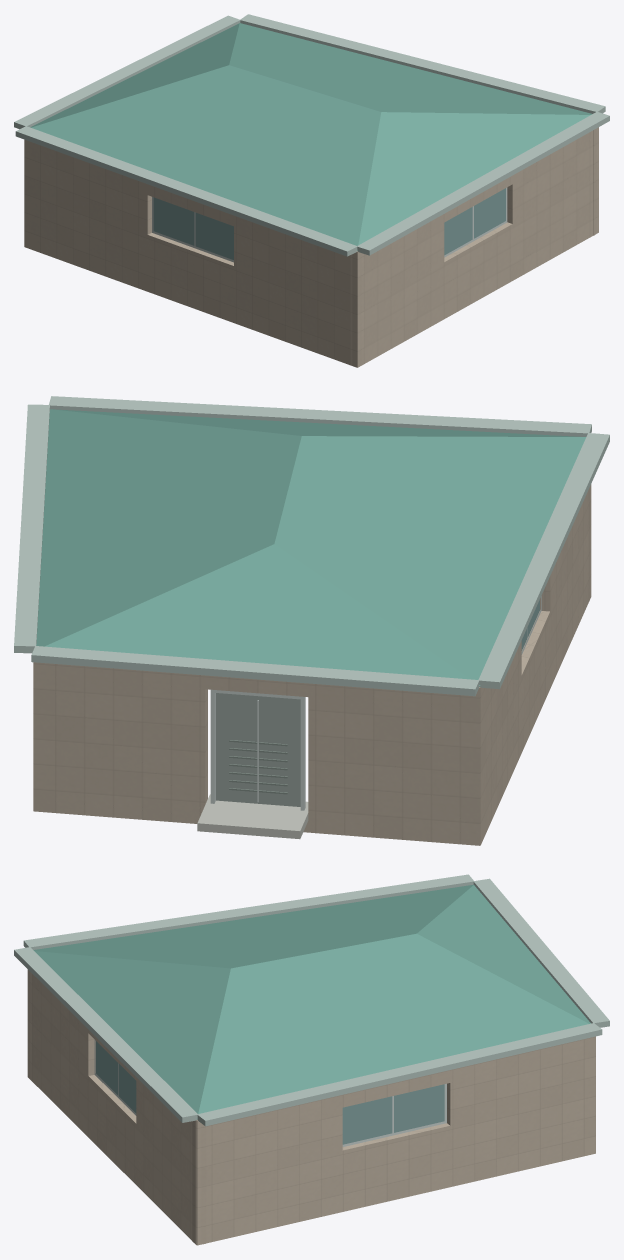
3 renders of one model, top to bottom at view 1: azimuth 30°, elevation 25°; view 2: azimuth 150°, elevation 25°; view 3: azimuth 270°, elevation 25°, orthographic. The views are drawn at different scales.
Parts seen in each view (by area): view 1: southhouse__roof, southhouse__wall, southhouse__rib, southhouse__glass, southhouse__frame; view 2: southhouse__roof, southhouse__wall, southhouse__rib, southhouse__door, southhouse__threshold-entry, southhouse__frame, southhouse__vent; view 3: southhouse__roof, southhouse__wall, southhouse__rib, southhouse__glass, southhouse__frame.
Boxes of the visible parts, x1,y1,x2,y2 form: southhouse__roof: [30, 23, 592, 250]; southhouse__wall: [24, 127, 598, 367]; southhouse__rib: [14, 14, 609, 256]; southhouse__glass: [153, 188, 505, 259]; southhouse__frame: [152, 187, 507, 262]; southhouse__roof: [36, 409, 586, 685]; southhouse__wall: [33, 484, 591, 845]; southhouse__rib: [14, 396, 609, 696]; southhouse__door: [216, 693, 300, 806]; southhouse__threshold-entry: [197, 794, 308, 839]; southhouse__frame: [210, 596, 541, 810]; southhouse__vent: [229, 740, 287, 794]; southhouse__roof: [33, 884, 590, 1118]; southhouse__wall: [27, 969, 595, 1245]; southhouse__rib: [14, 874, 609, 1126]; southhouse__glass: [96, 1041, 444, 1144]; southhouse__frame: [94, 1040, 446, 1146].
Bounding box in the file's own units: 13.32 × 4.3 × 13.61.
Materials: 8 (1 with a texture image).
